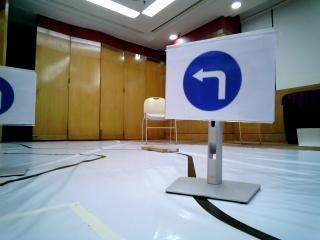left: (168, 53, 271, 118)
